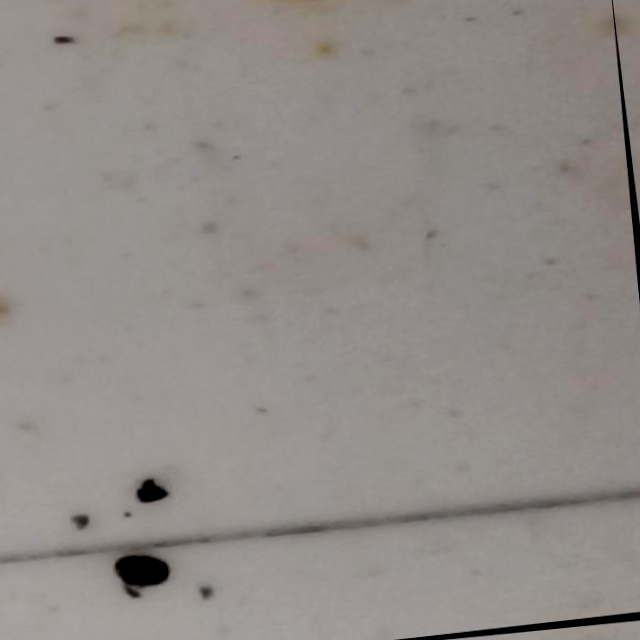varroa: (113, 550, 173, 590)
